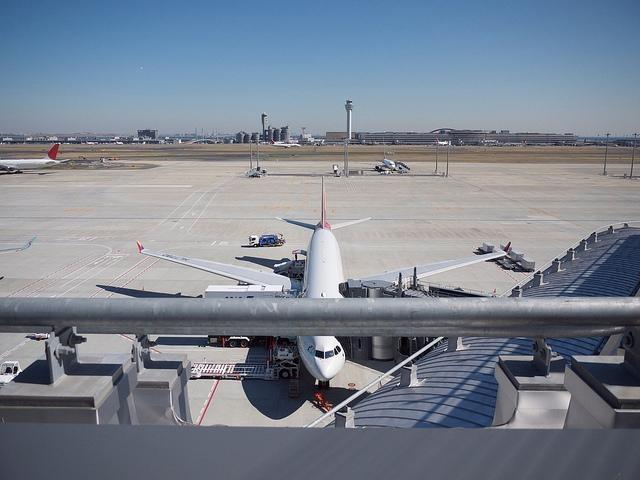truck: (206, 336, 296, 347), (249, 233, 285, 249)
